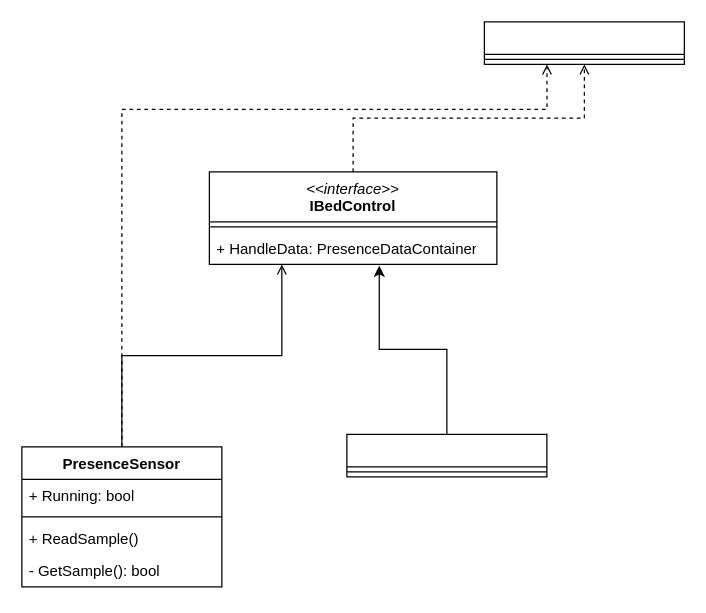
This 706x613 diagram has some shape labels left out. The shapes that lost their labels are listed below. From the top down, each one's centre as x and y in pixels, then its label:
(x=583, y=42): PresenceDataContainer
(x=446, y=455): BedControl
